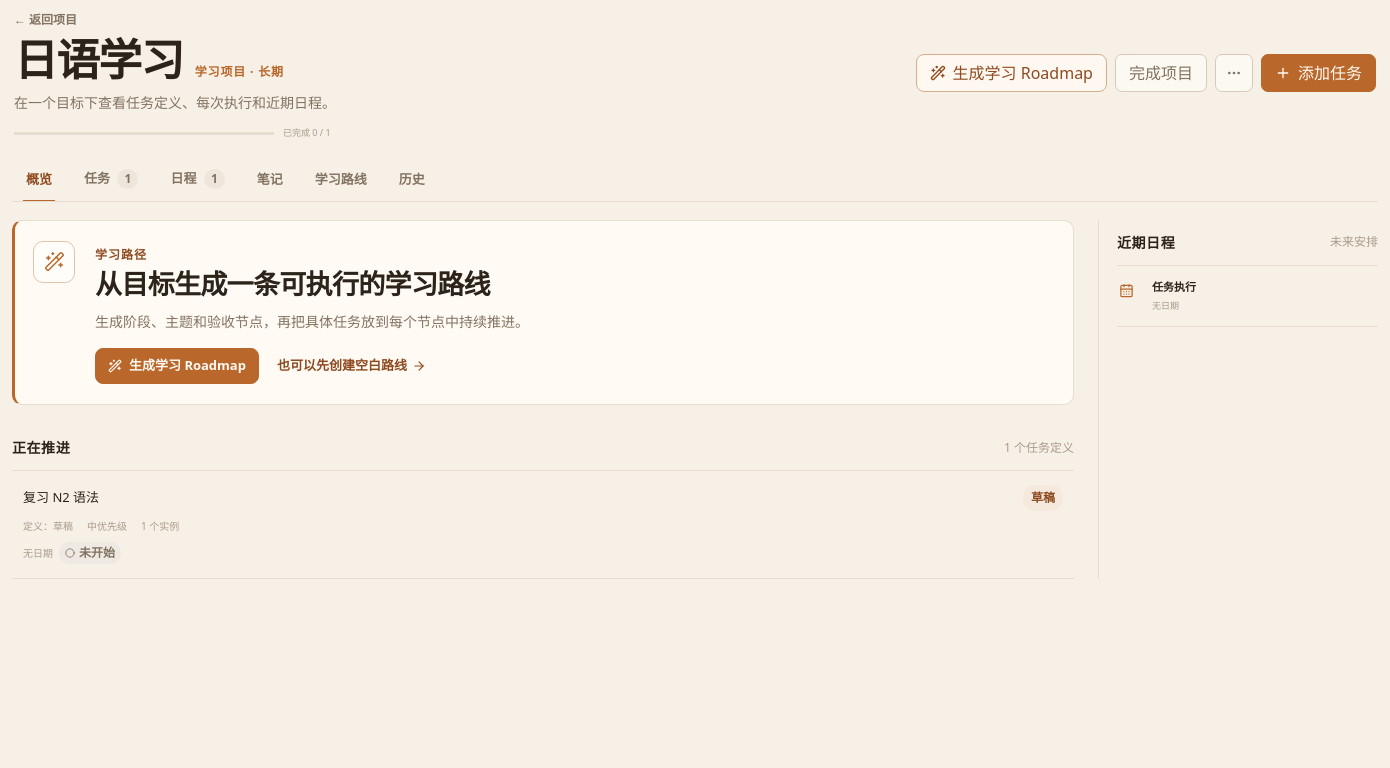
Test: Project detail v2 › shows a visible error when publishing a stale task definition
Click the heading "复习 N2 语法" at coordinates (61, 498), box [23,488,99,508]
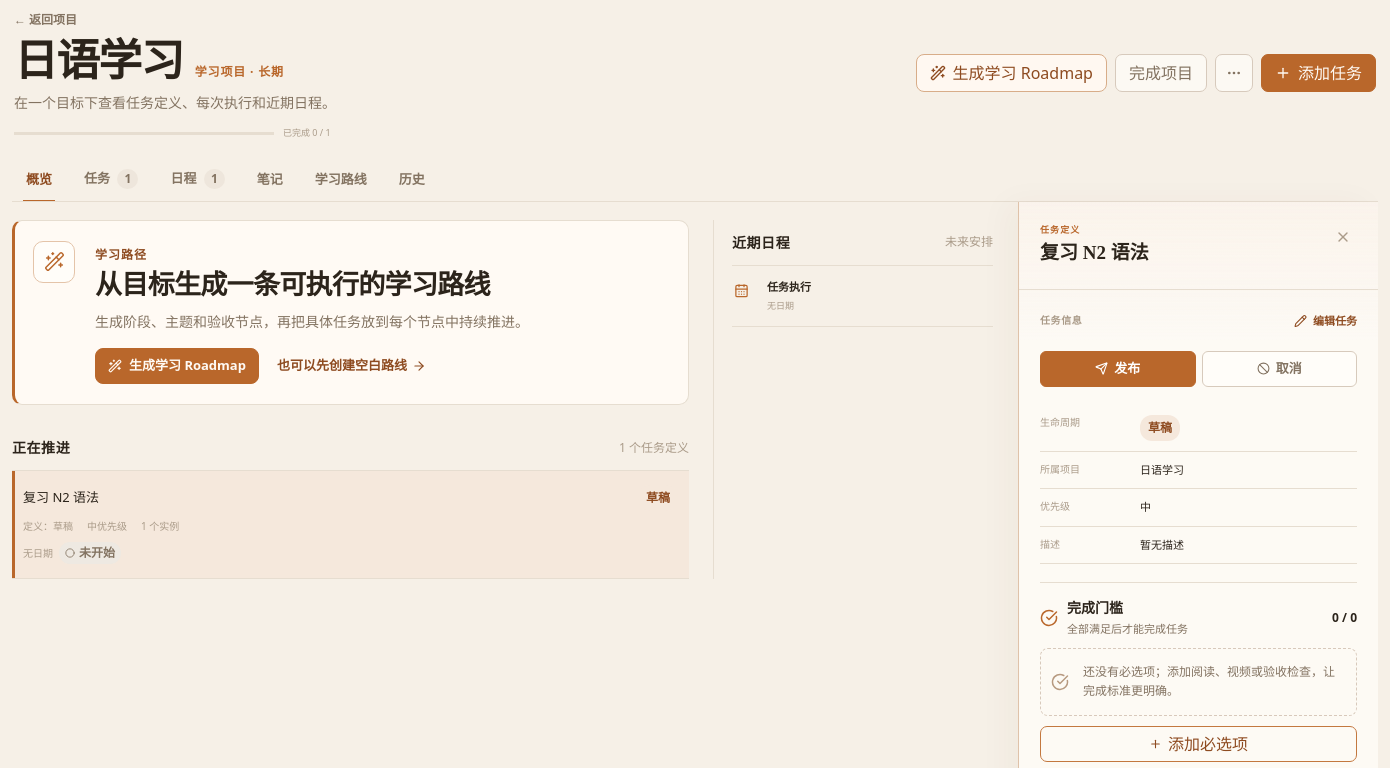
Click the button "发布" at coordinates (1118, 369), box [1040,351,1196,387]
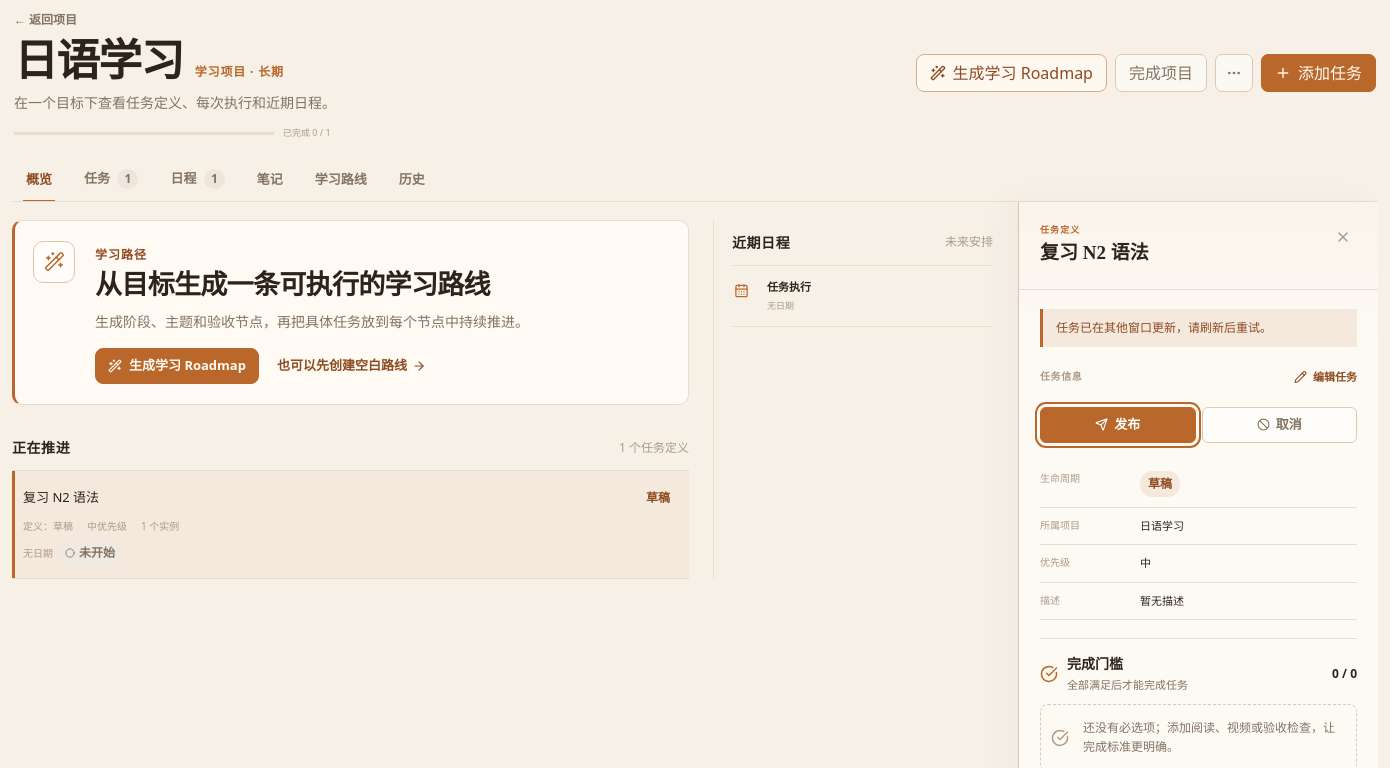
Check: the message reads "任务已在其他窗口更新，请刷新后重试。", box [1056,319,1272,336]
